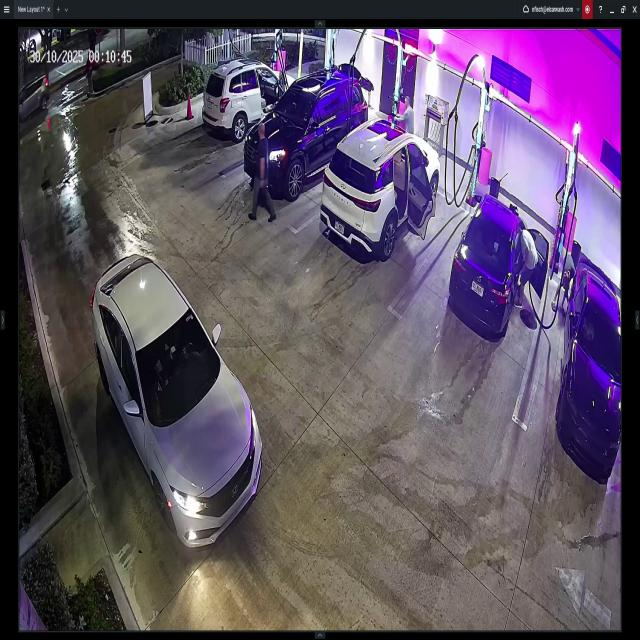Car: (89, 254, 262, 550), (323, 112, 438, 260), (245, 64, 368, 202), (556, 249, 622, 482), (450, 196, 550, 336), (202, 64, 296, 145), (21, 76, 49, 121)
